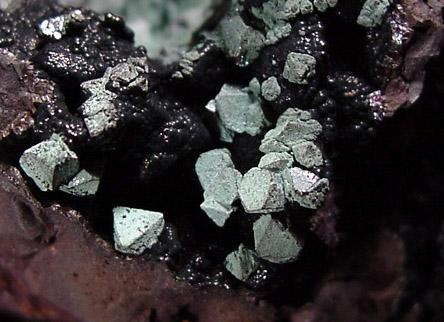cuprite: (196, 108, 330, 227), (204, 0, 328, 66), (79, 58, 149, 138), (207, 76, 283, 142), (227, 215, 302, 280), (20, 134, 98, 196), (114, 209, 164, 254), (284, 51, 317, 84)
